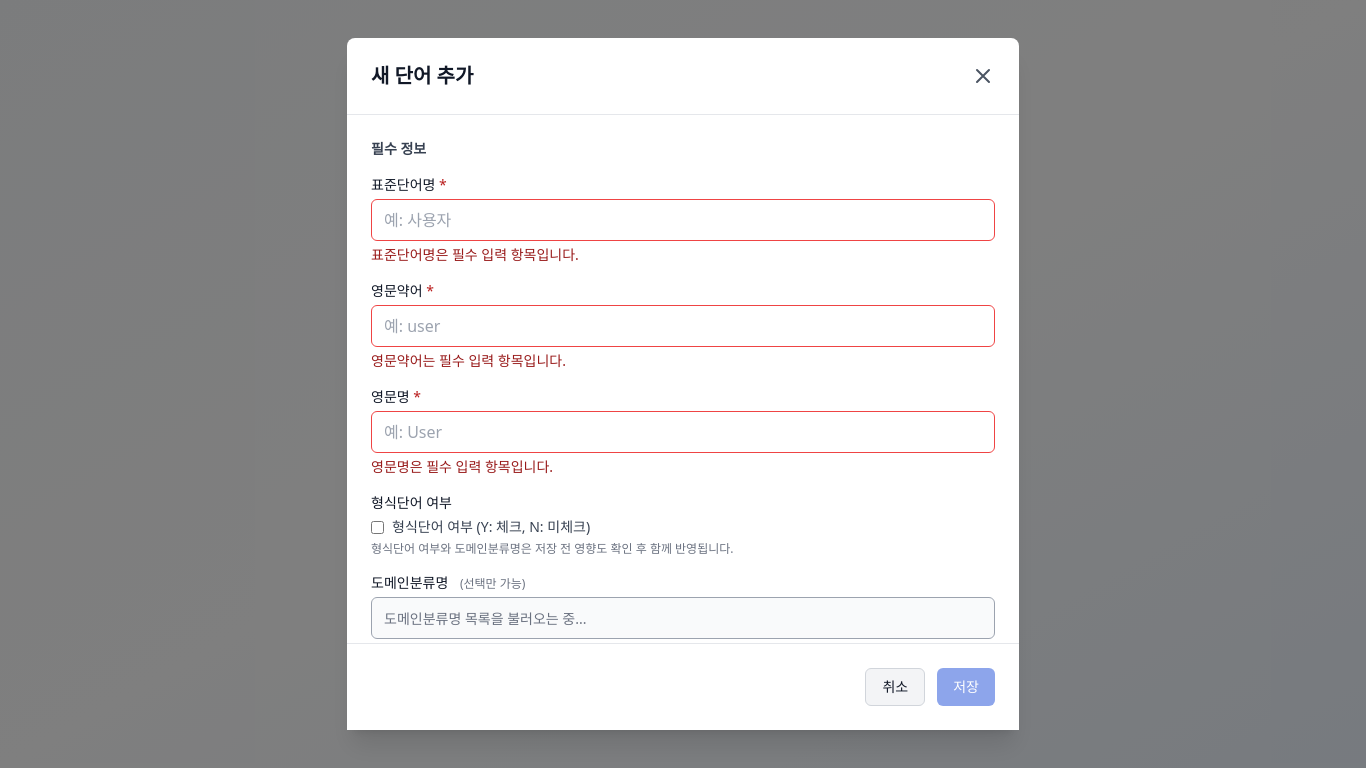
Scenario: VocabularyEditor › Form Validation › should show error message for empty required field after input and clear
This screenshot has width=1366, height=768.
In the field labelled "표준단어명 *": (683, 220) x1=371 y1=199 x2=995 y2=241, type "테스트"
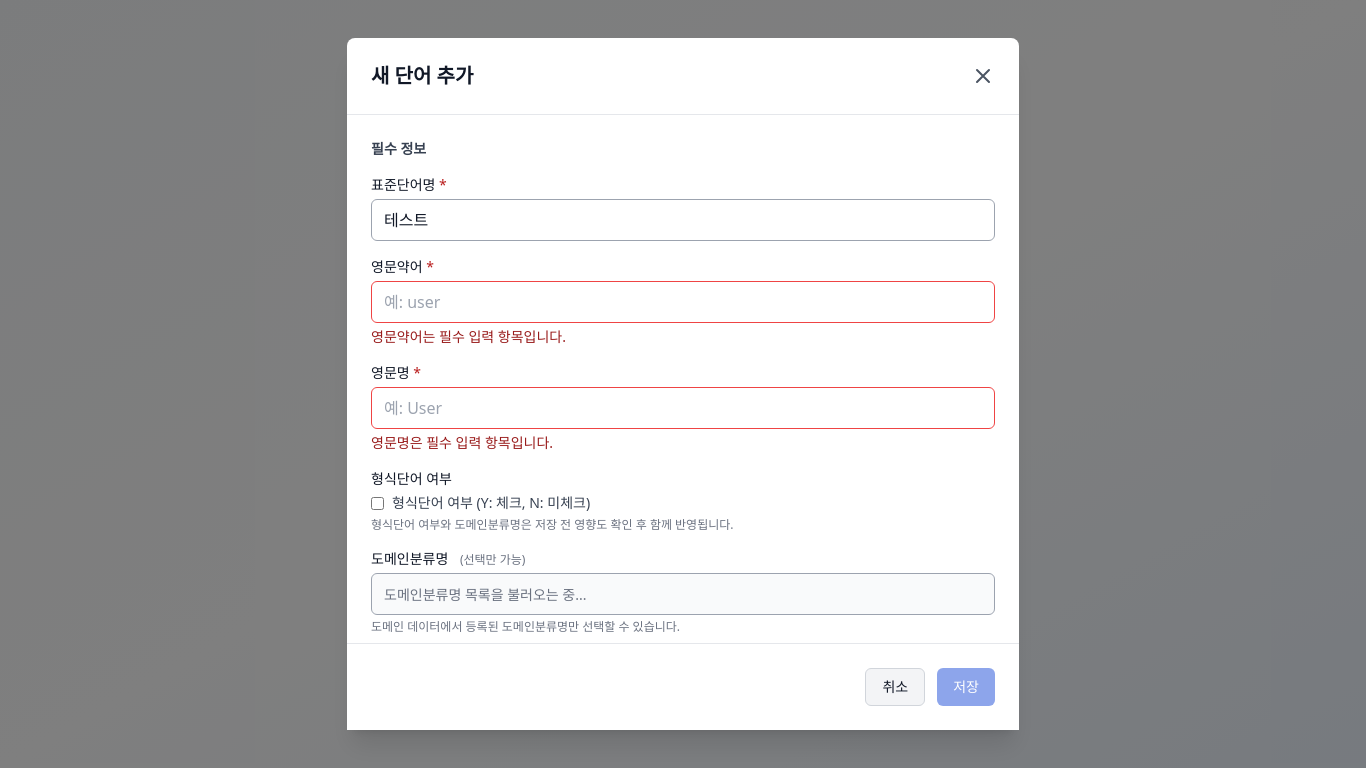
Clear the field labelled "표준단어명 *": (683, 220) x1=371 y1=199 x2=995 y2=241
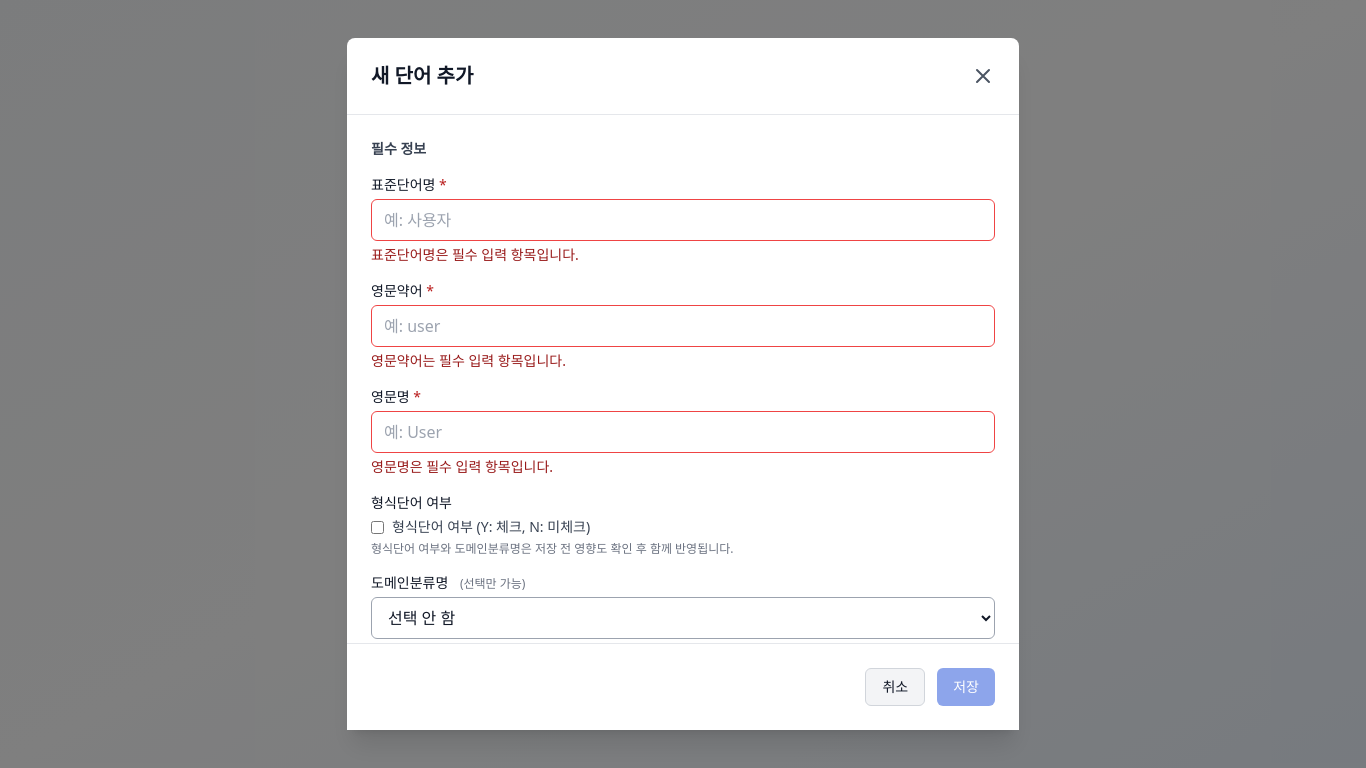
Expected: the text "표준단어명은 필수 입력 항목입니다." is shown, x1=371 y1=245 x2=579 y2=264
